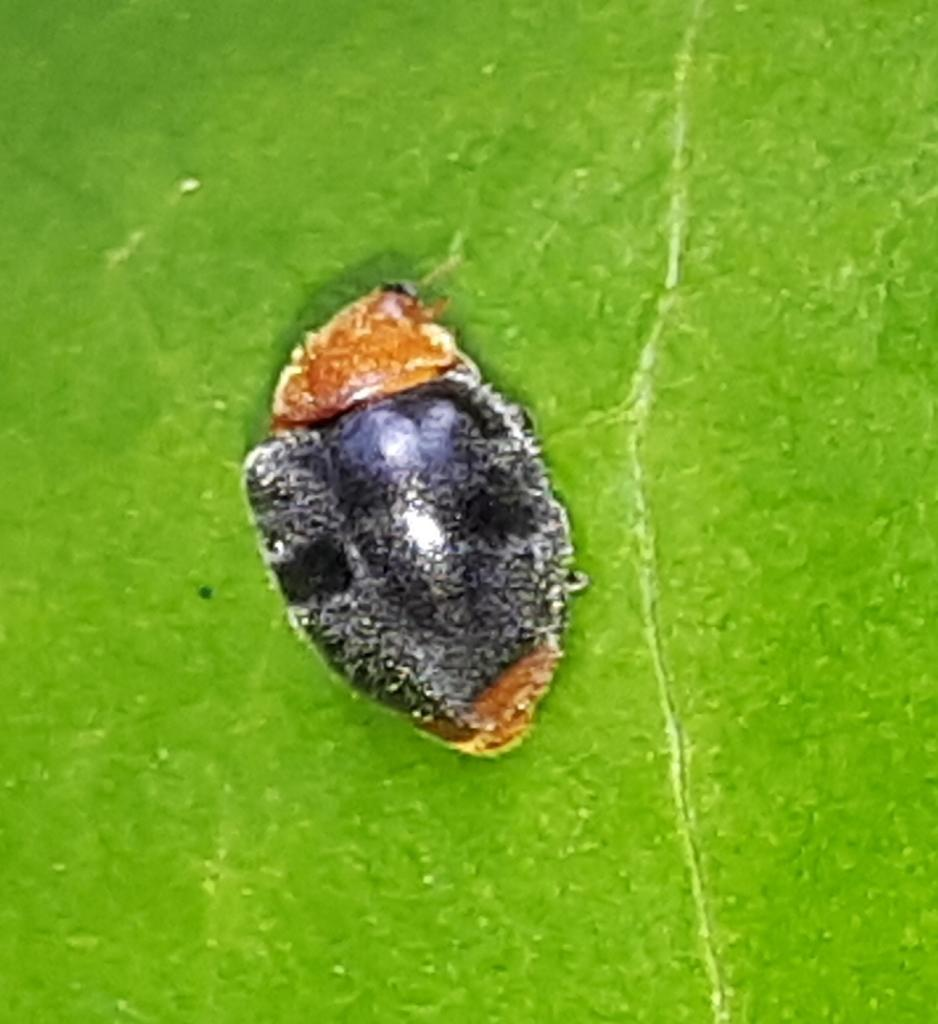ladybug: (239, 274, 599, 764)
